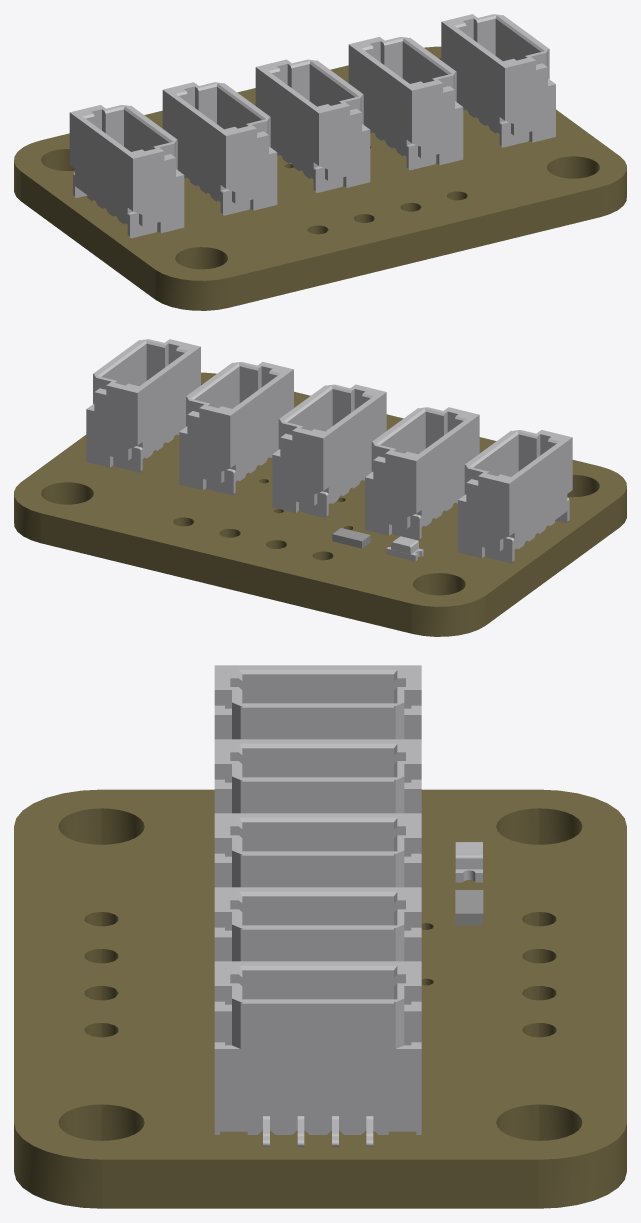
Rendered from ada-5625.glb.
3 renders of one model, top to bottom at view 1: azimuth 30°, elevation 25°; view 2: azimuth 150°, elevation 25°; view 3: azimuth 270°, elevation 25°, orthographic. The views are drawn at different scales.
Parts seen in each view (by area): view 1: 0.5833333333333334_0.5833333333333334_0.5833333333333334_0.8, 0.16666666666666666_0.16666666666666666_0.08333333333333333_; view 2: 0.5833333333333334_0.5833333333333334_0.5833333333333334_0.8, 0.16666666666666666_0.16666666666666666_0.08333333333333333_, 0.3333333333333333_0.3333333333333333_0.3333333333333333_0; view 3: 0.16666666666666666_0.16666666666666666_0.08333333333333333_, 0.5833333333333334_0.5833333333333334_0.5833333333333334_0.8, 0.3333333333333333_0.3333333333333333_0.3333333333333333_0.
Boxes of the visible parts, x1,y1,x2,y2 form: 0.5833333333333334_0.5833333333333334_0.5833333333333334_0.8: [69, 14, 555, 238]; 0.16666666666666666_0.16666666666666666_0.08333333333333333_: [14, 46, 626, 310]; 0.5833333333333334_0.5833333333333334_0.5833333333333334_0.8: [86, 339, 572, 563]; 0.16666666666666666_0.16666666666666666_0.08333333333333333_: [14, 372, 626, 636]; 0.3333333333333333_0.3333333333333333_0.3333333333333333_0: [332, 528, 370, 548]; 0.16666666666666666_0.16666666666666666_0.08333333333333333_: [14, 789, 626, 1208]; 0.5833333333333334_0.5833333333333334_0.5833333333333334_0.8: [214, 665, 482, 1146]; 0.3333333333333333_0.3333333333333333_0.3333333333333333_0: [455, 890, 483, 925].
Size of the model in its own units: 2.54 by 0.5869 by 1.78.
